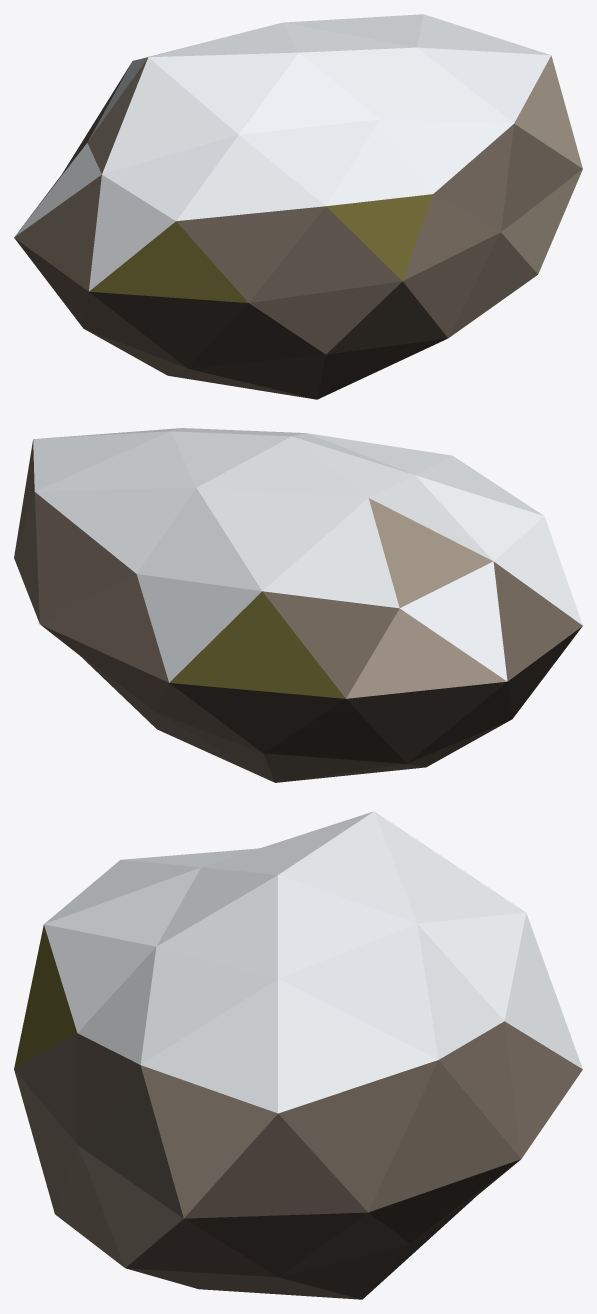
File: rs_boulder_a.glb
The picture shows the model from 3 angles, top to bottom: view 1: azimuth 30°, elevation 25°; view 2: azimuth 150°, elevation 25°; view 3: azimuth 270°, elevation 25°; orthographic projection. The views are drawn at different scales.
Visible parts, largest first — view 1: rs_boulder_a.001; view 2: rs_boulder_a.001; view 3: rs_boulder_a.001.
Part boxes in pixels (x1,y1,x2,y2): rs_boulder_a.001: (14, 14, 582, 399); rs_boulder_a.001: (14, 428, 582, 782); rs_boulder_a.001: (14, 811, 582, 1299).
Size of the model in its own units: 2.55 by 1.42 by 1.97.
